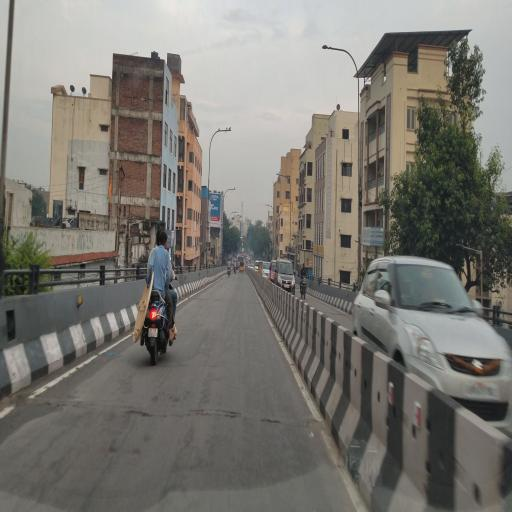street_light_0: (318, 35, 345, 61), (213, 116, 234, 140), (226, 178, 240, 202), (276, 162, 290, 184)
